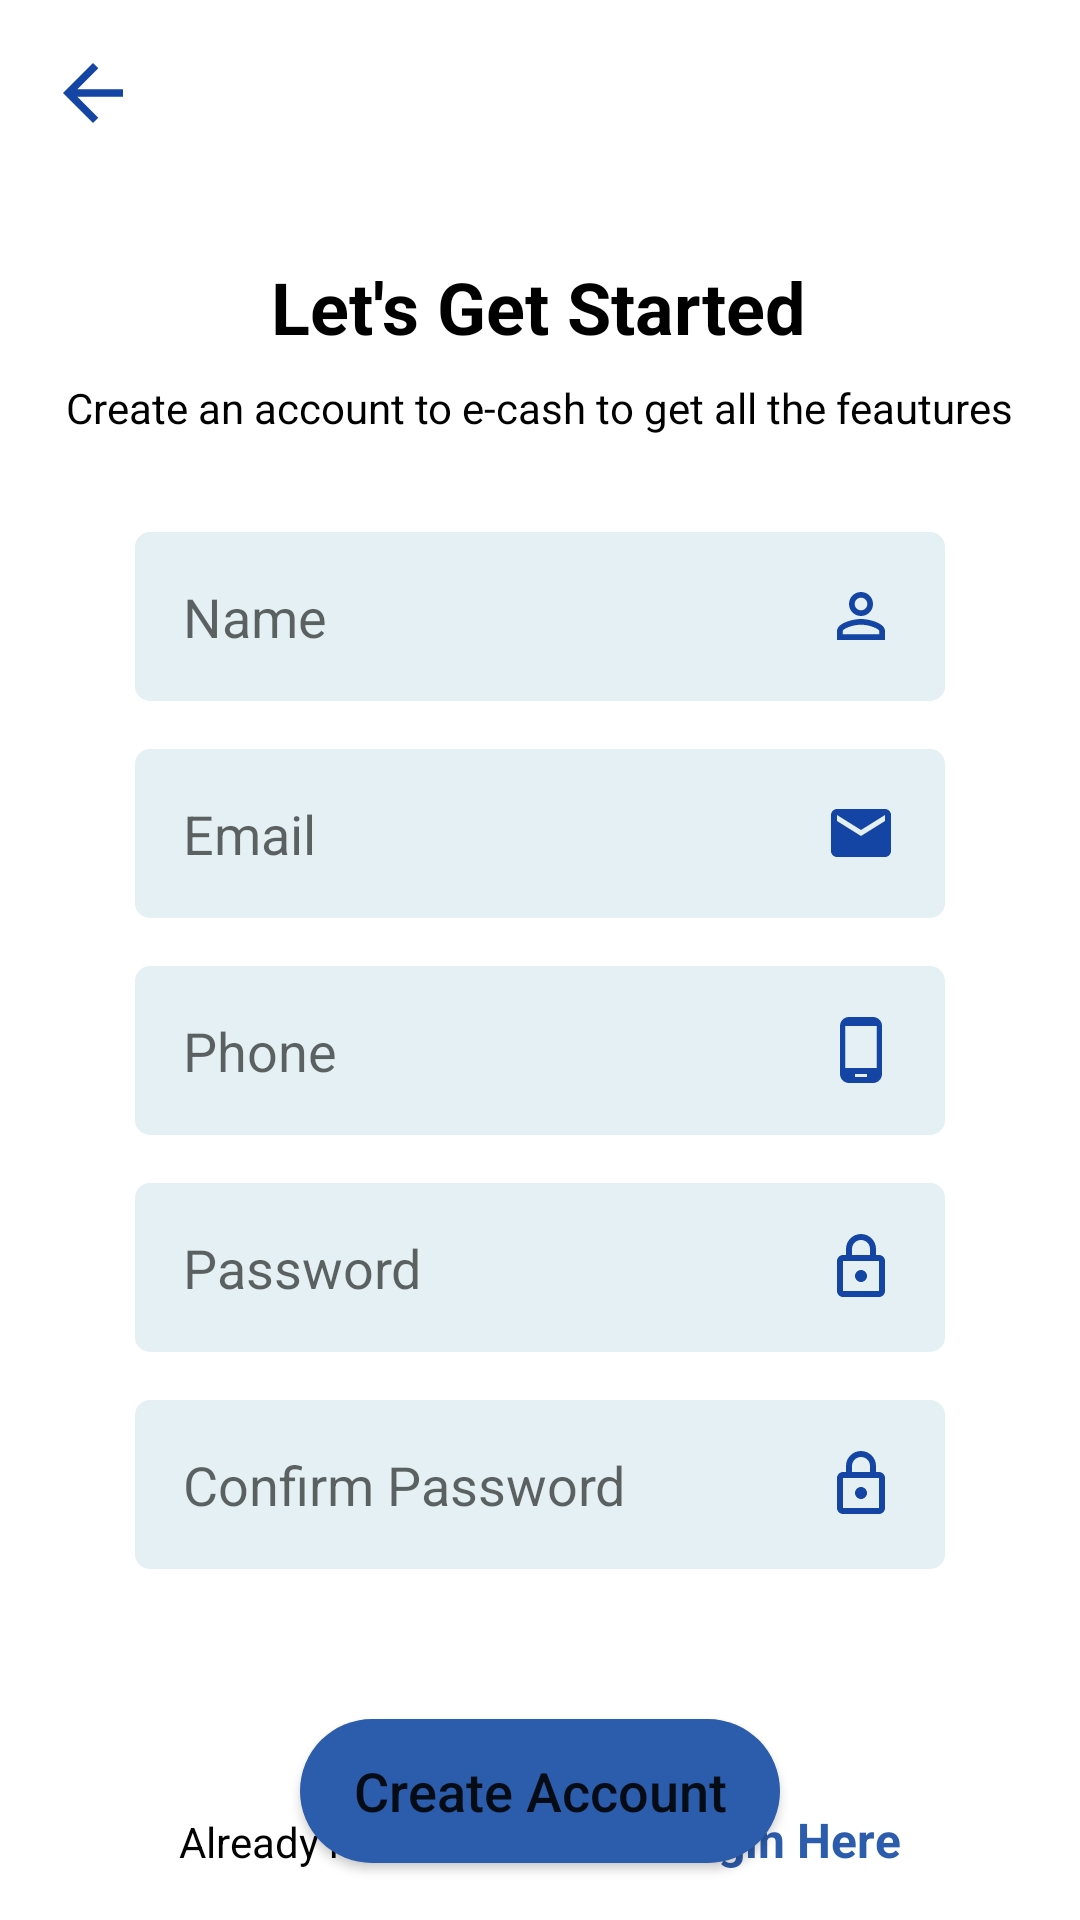

Point at icon controls on the screen. Image size 1080px x 1920px, points as [x,y].
back: [93,93]
